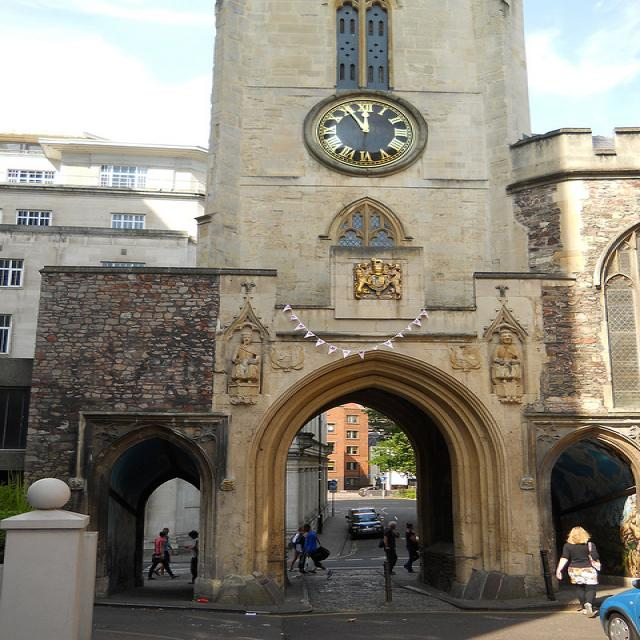Vehicle: (600, 577, 640, 640), (346, 512, 386, 536), (348, 504, 376, 516)
